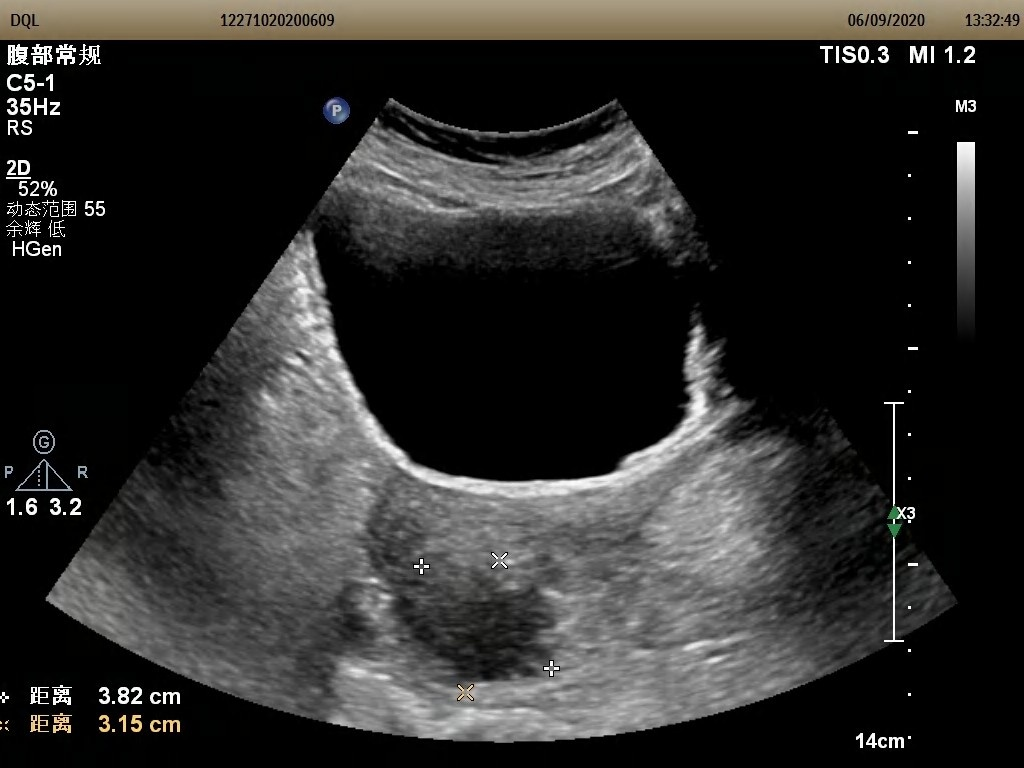肌瘤: (403, 562, 553, 682)
